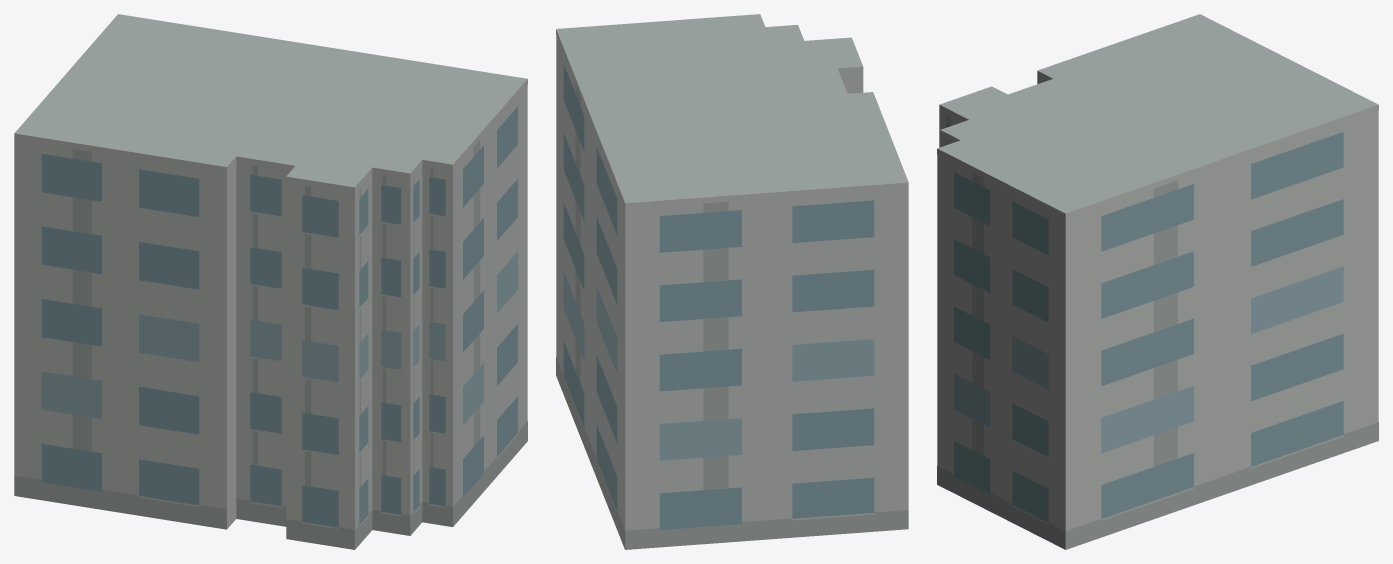
File: survey-upis-32843180.glb
3 renders of one model, left to right at view 1: azimuth 30°, elevation 25°; view 2: azimuth 150°, elevation 25°; view 3: azimuth 270°, elevation 25°, orthographic. The views are drawn at different scales.
Visible parts, largest first — view 1: survey-upis-32843180.tmp; view 2: survey-upis-32843180.tmp; view 3: survey-upis-32843180.tmp.
Part boxes in pixels (<box>): survey-upis-32843180.tmp: <box>14,14,527,549</box>; survey-upis-32843180.tmp: <box>556,14,908,549</box>; survey-upis-32843180.tmp: <box>937,14,1378,549</box>.
Size of the model in its own units: 18.28 by 14.35 by 17.09.
